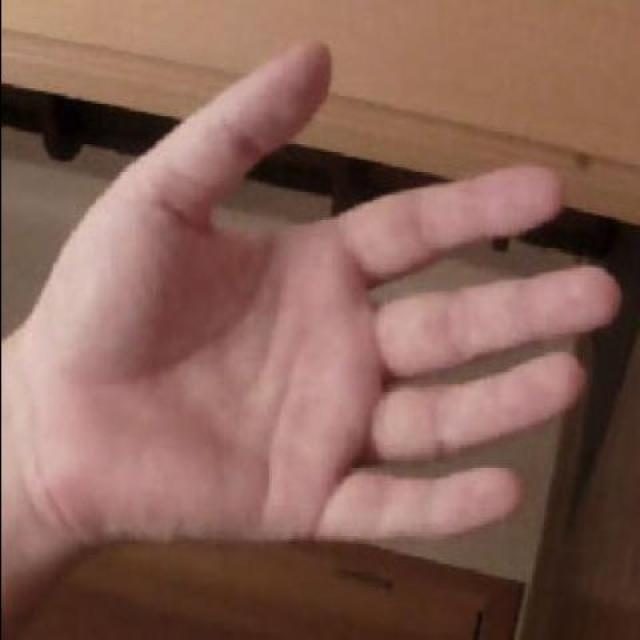Open Hand: (0, 16, 631, 600)
